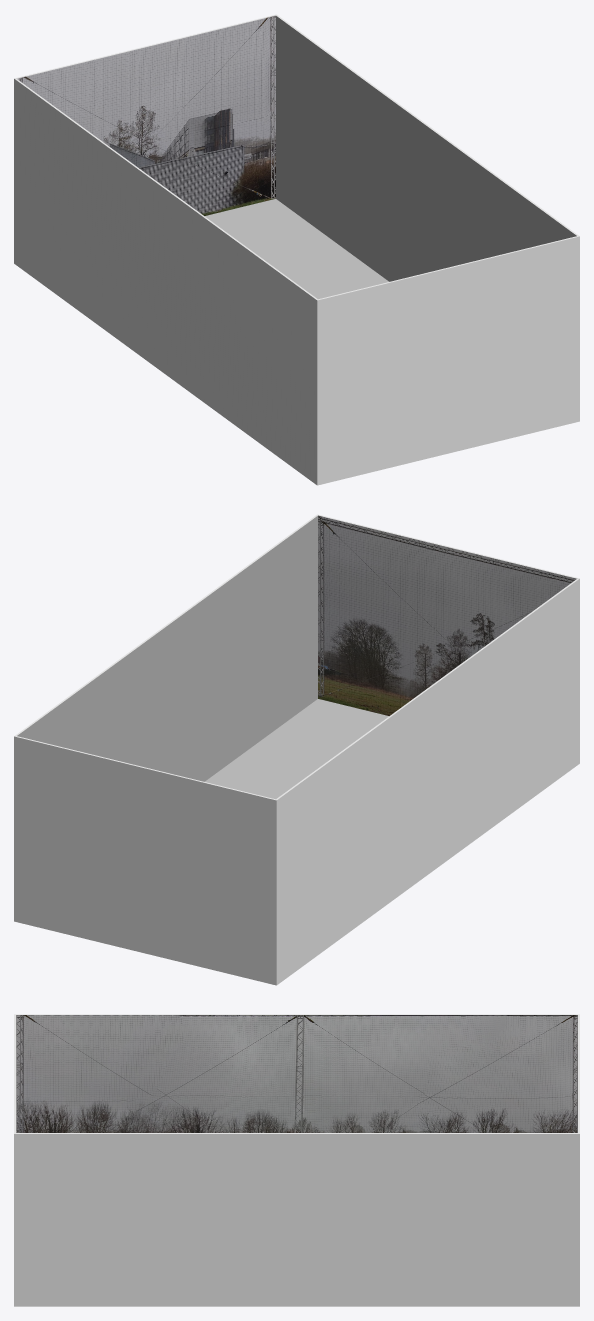
Rendered from fly_zone_finished.dae.
3 views of the same model, one above another, from view 1: azimuth 30°, elevation 25°; view 2: azimuth 150°, elevation 25°; view 3: azimuth 270°, elevation 25° (orthographic). The views are drawn at different scales.
Visible parts, largest first — view 1: SketchUp (×4); view 2: SketchUp (×4); view 3: SketchUp (×2).
Part boxes in pixels (x1=…): SketchUp (×4): x1=14, y1=14, x2=579, y2=485; SketchUp (×4): x1=14, y1=514, x2=579, y2=985; SketchUp (×2): x1=14, y1=1014, x2=579, y2=1306.
Bounding box in the file's own units: 591 × 1181 × 398.
